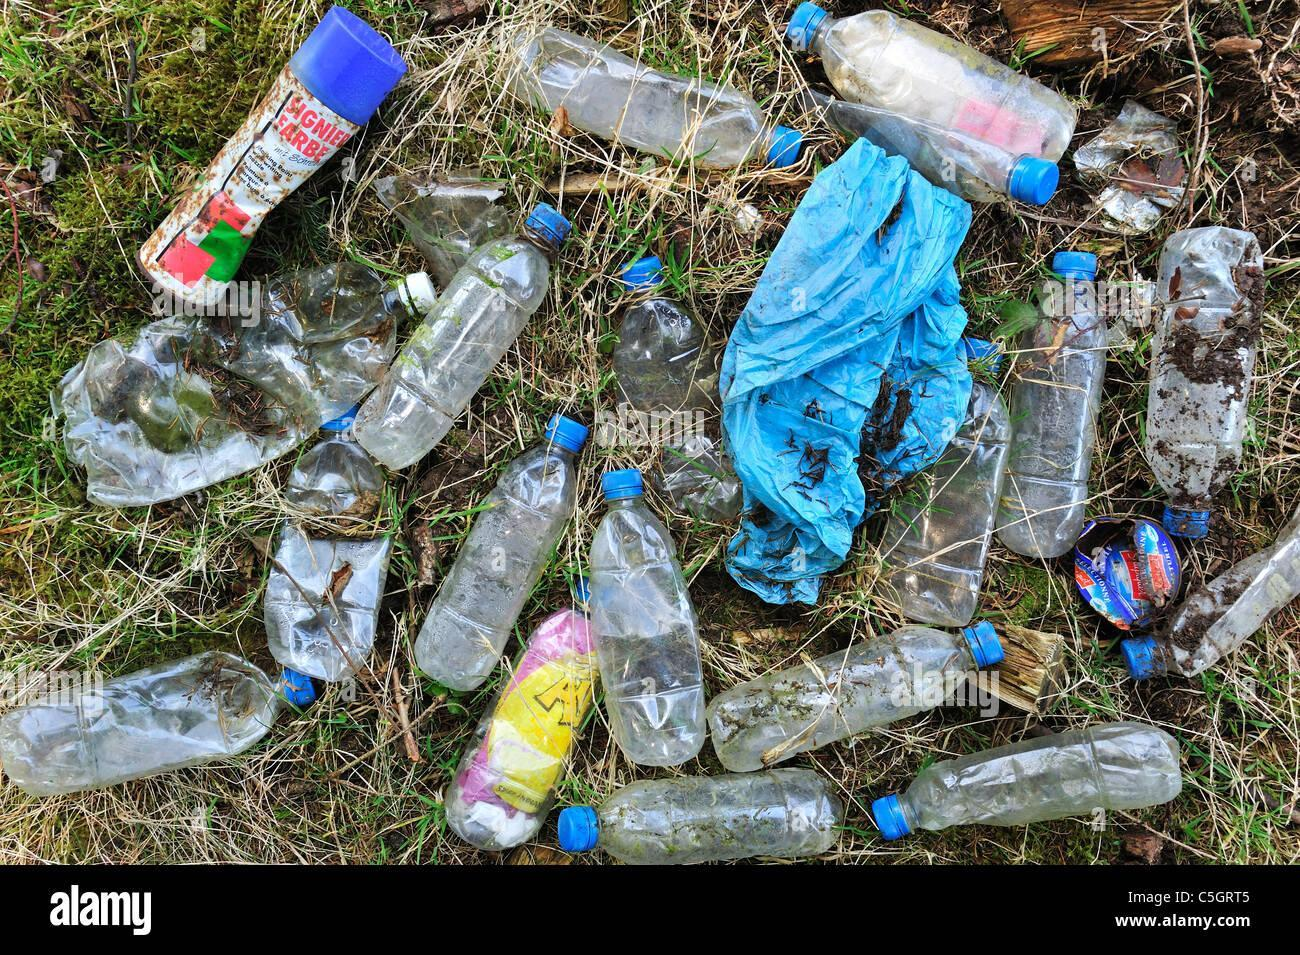bottle: (46, 271, 443, 514), (340, 185, 580, 475), (435, 556, 650, 850), (399, 406, 599, 709), (485, 7, 807, 187), (707, 599, 1006, 775), (798, 0, 1075, 182), (0, 637, 315, 790), (581, 436, 715, 780), (1130, 197, 1260, 551), (850, 716, 1202, 844), (589, 246, 734, 538), (993, 219, 1118, 550), (255, 429, 409, 688), (1117, 498, 1298, 679), (911, 334, 1023, 622), (796, 97, 1063, 213), (558, 770, 842, 870), (925, 96, 936, 98)
